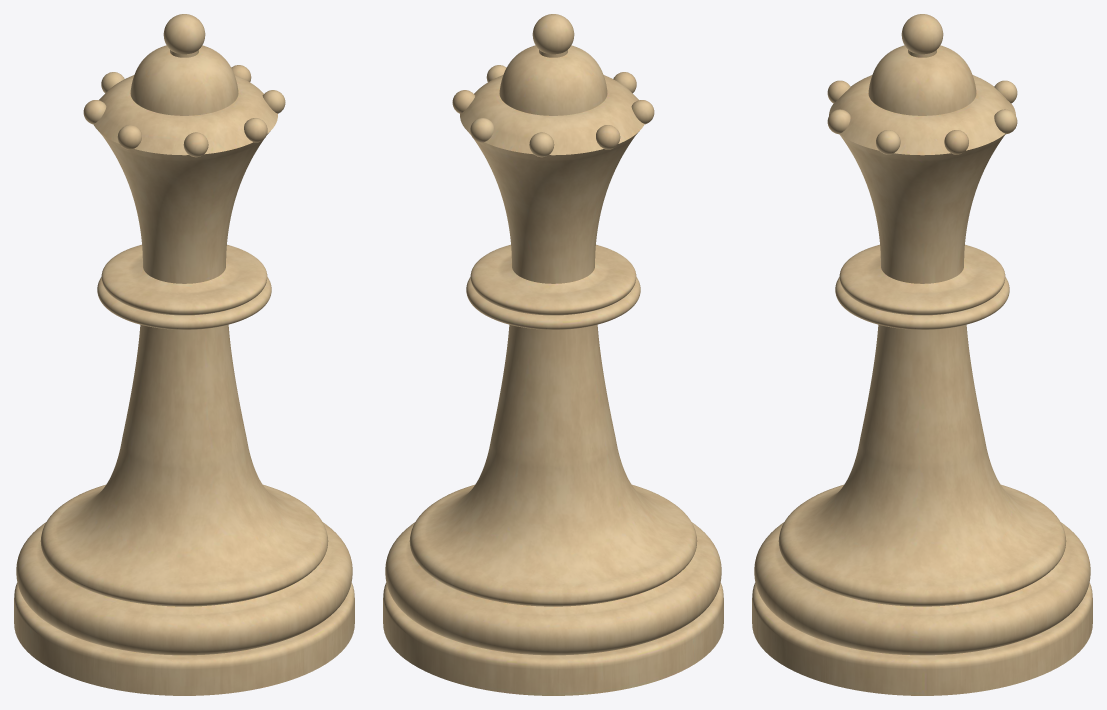
The model's file is dame_weiss.glb.
The picture shows the model from 3 angles, left to right: view 1: azimuth 30°, elevation 25°; view 2: azimuth 150°, elevation 25°; view 3: azimuth 270°, elevation 25°; orthographic projection.
Parts seen in each view (by area): view 1: dame_weiss; view 2: dame_weiss; view 3: dame_weiss.
Boxes of the visible parts, x1,y1,x2,y2 form: dame_weiss: [14, 14, 354, 695]; dame_weiss: [383, 14, 723, 695]; dame_weiss: [752, 14, 1092, 695].
Bounding box in the file's own units: 0.82 × 1.62 × 0.82.
1 material, 1 textured.
